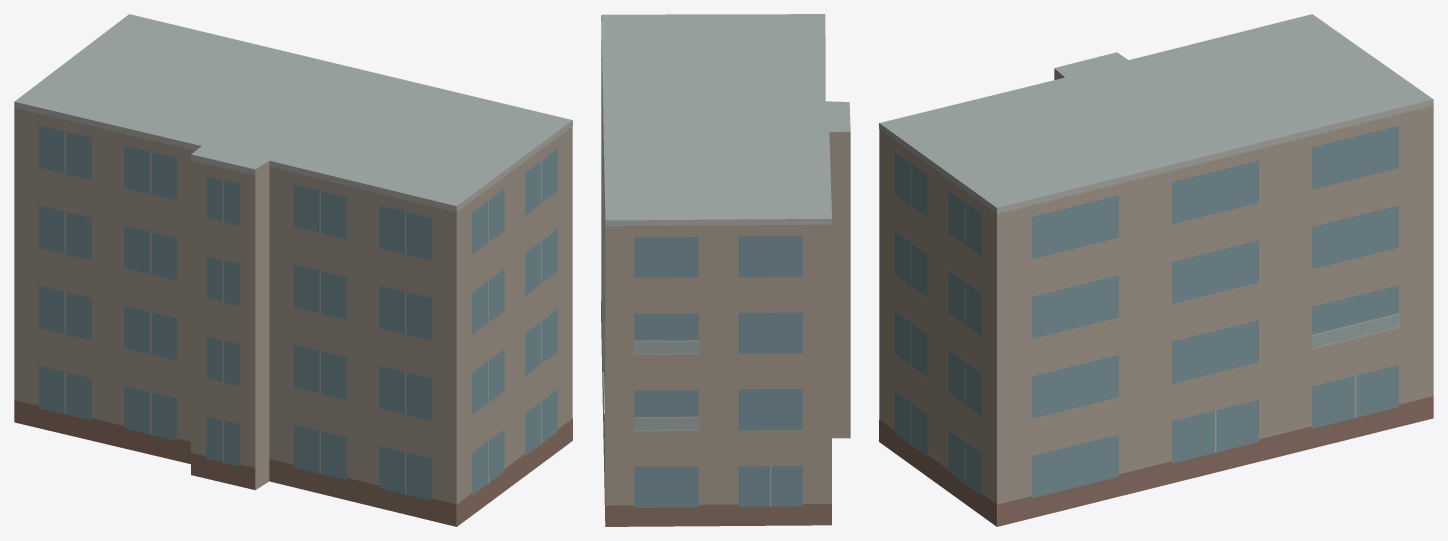
Rendered from survey-upis-32988464.glb.
3 renders of one model, left to right at view 1: azimuth 30°, elevation 25°; view 2: azimuth 150°, elevation 25°; view 3: azimuth 270°, elevation 25°, orthographic. The views are drawn at different scales.
Visible parts, largest first — view 1: survey-upis-32988464.tmp; view 2: survey-upis-32988464.tmp; view 3: survey-upis-32988464.tmp.
Boxes of the visible parts, x1,y1,x2,y2 form: survey-upis-32988464.tmp: [14, 14, 572, 526]; survey-upis-32988464.tmp: [601, 14, 850, 526]; survey-upis-32988464.tmp: [879, 14, 1433, 526].
Size of the model in its own units: 16.72 by 12.8 by 20.19.
